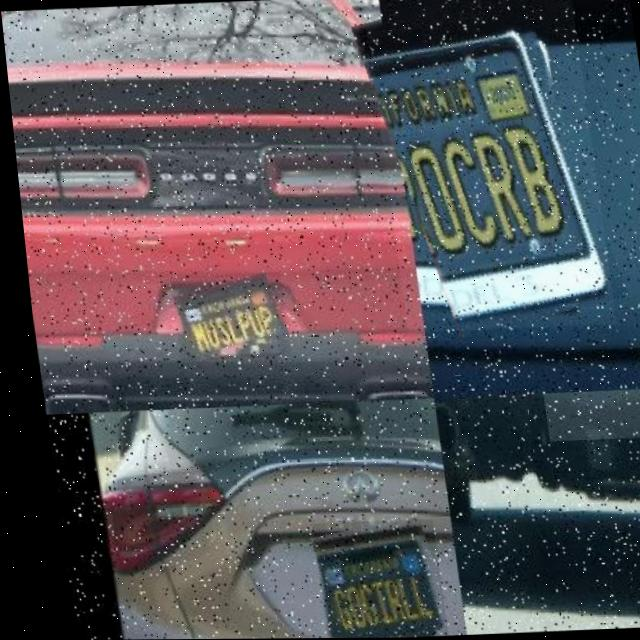LicensePlate: (362, 0, 609, 333), (300, 519, 434, 639), (166, 273, 281, 360), (534, 389, 640, 442)
